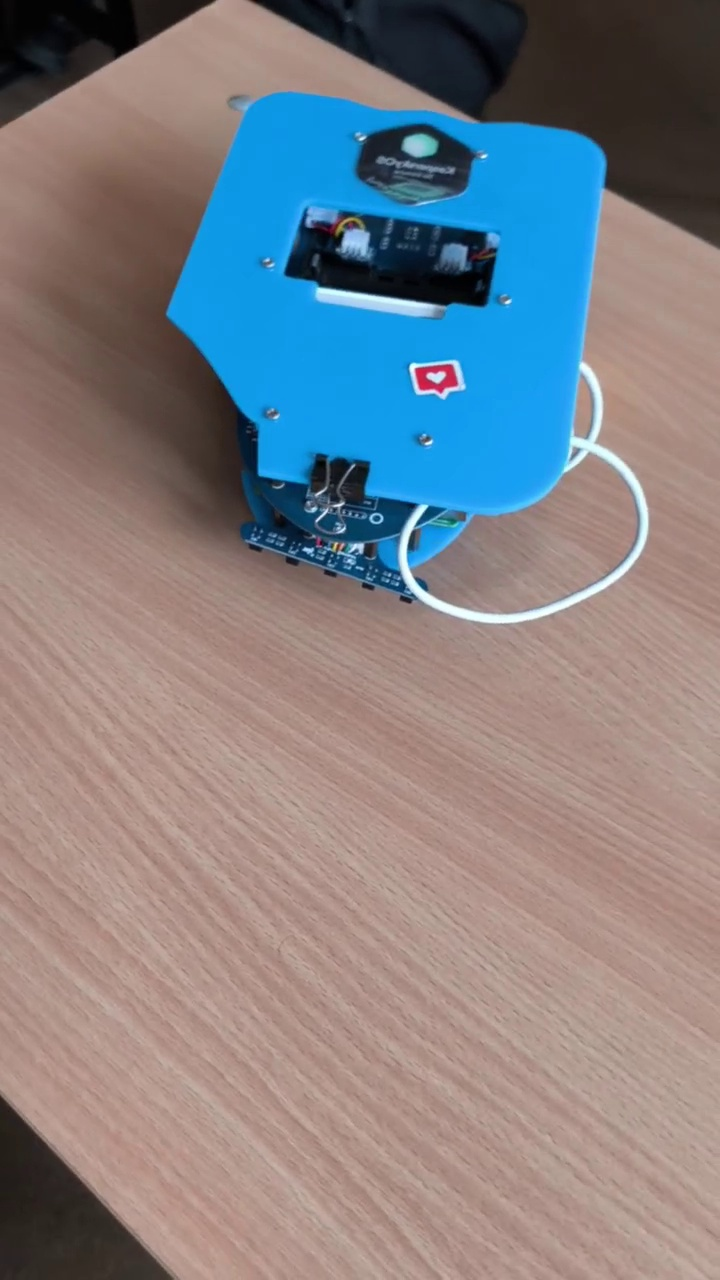robot: (163, 92, 650, 627)
